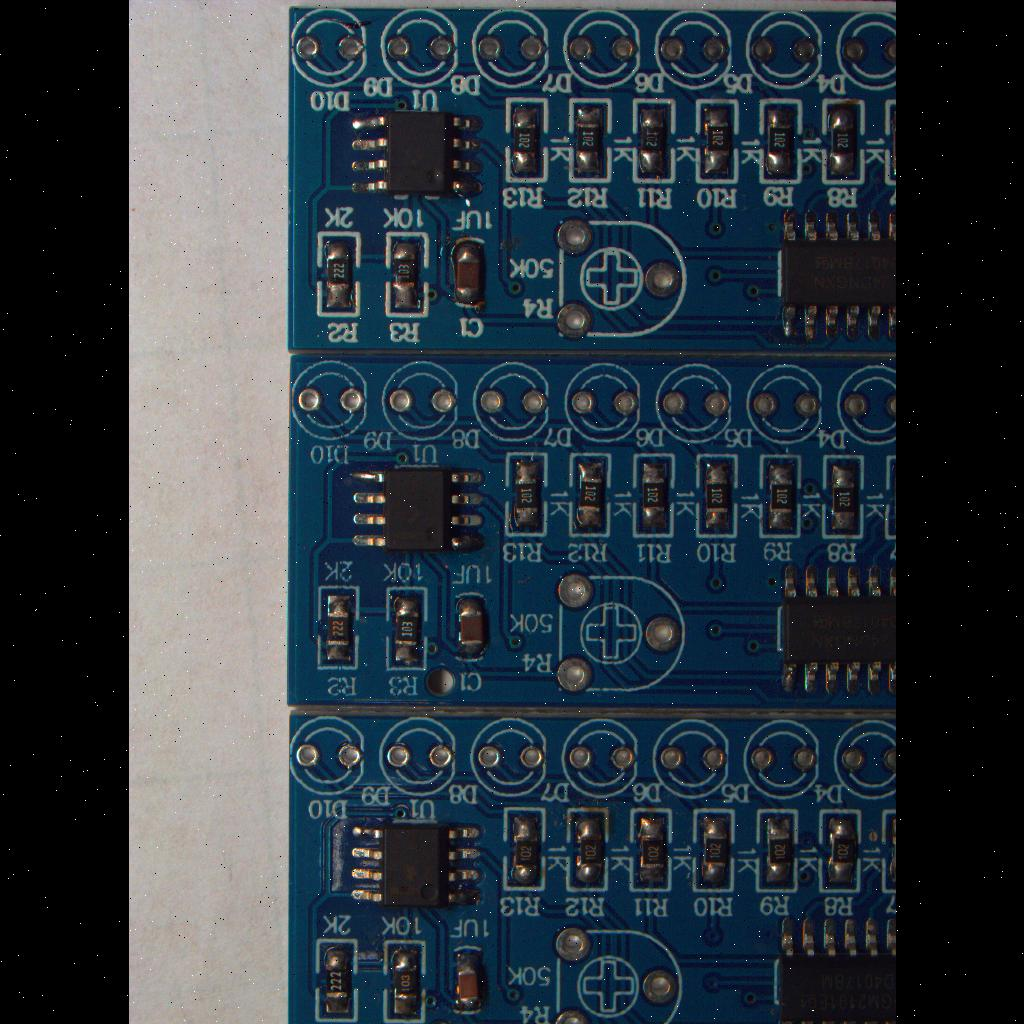OK: (774, 554, 896, 704), (772, 201, 896, 347), (770, 908, 896, 1024), (343, 814, 489, 912), (343, 460, 495, 554), (341, 105, 487, 201), (816, 96, 868, 190), (312, 228, 364, 322), (753, 96, 805, 188), (750, 804, 800, 898), (382, 227, 432, 321), (498, 803, 548, 895), (756, 448, 804, 542), (819, 450, 867, 544), (564, 450, 614, 540), (501, 95, 551, 185), (310, 934, 360, 1024), (565, 96, 613, 188), (562, 804, 610, 896), (312, 584, 362, 672), (690, 806, 738, 896), (816, 805, 864, 895), (382, 583, 430, 673), (630, 450, 676, 542), (692, 452, 740, 540), (627, 806, 675, 894), (502, 450, 550, 538), (380, 936, 428, 1024), (694, 96, 740, 186), (630, 96, 676, 186), (447, 232, 491, 316), (446, 942, 490, 1022), (450, 588, 490, 666), (880, 810, 896, 892)
